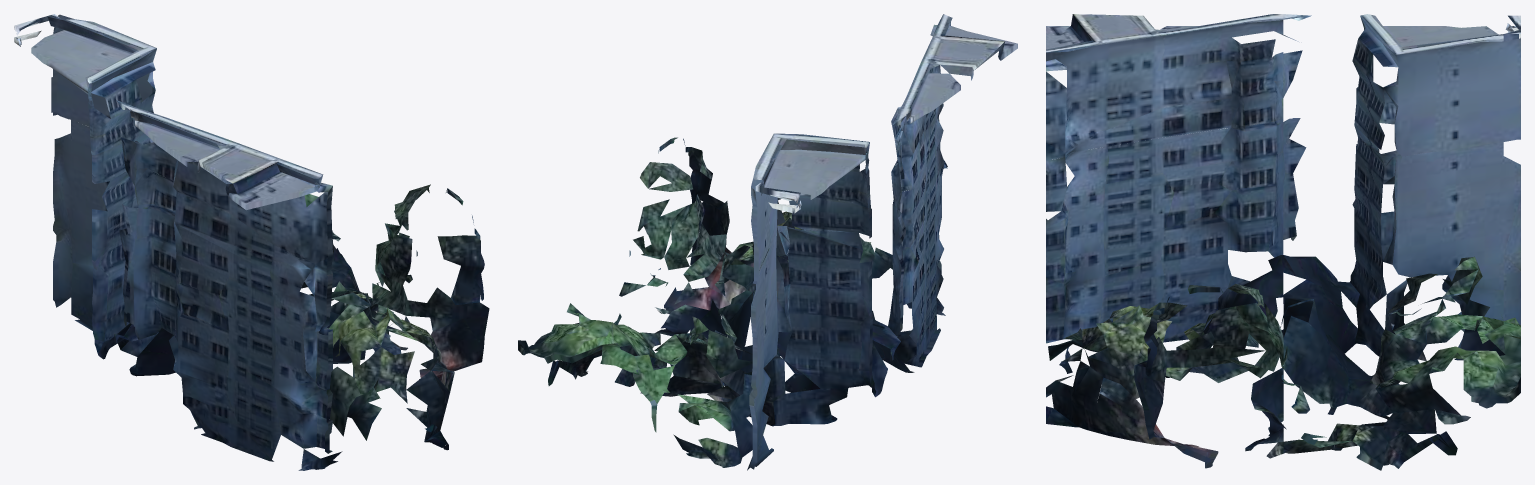
3 renders of one model, left to right at view 1: azimuth 30°, elevation 25°; view 2: azimuth 150°, elevation 25°; view 3: azimuth 270°, elevation 25°, orthographic. The views are drawn at different scales.
Parts seen in each view (by area): view 1: 30436272704361526517_0; view 2: 30436272704361526517_0; view 3: 30436272704361526517_0.
Boxes of the visible parts, left/top/right/bottom form: 30436272704361526517_0: left=14, top=14, right=489, bottom=470; 30436272704361526517_0: left=518, top=14, right=1017, bottom=470; 30436272704361526517_0: left=1046, top=14, right=1520, bottom=470.
Bounding box in the file's own units: 27.78 × 28.04 × 38.26.
1 material, 1 textured.
